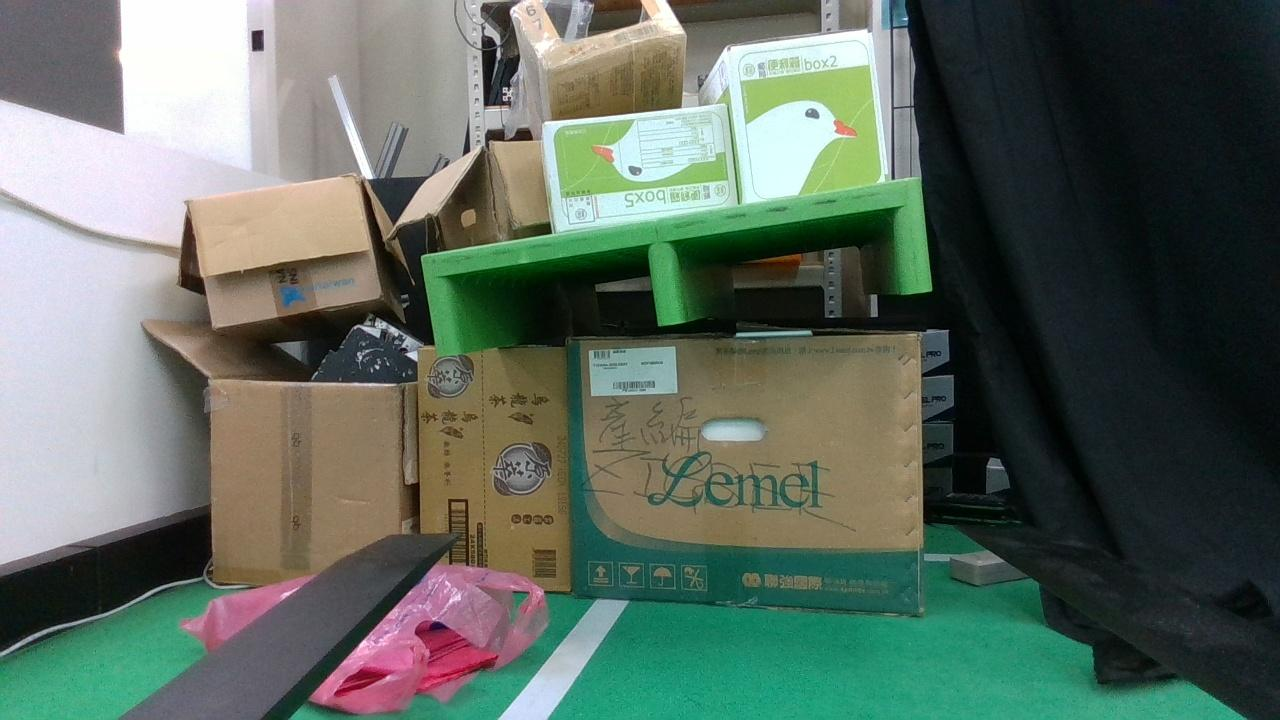Pallet: (421, 179, 932, 352)
